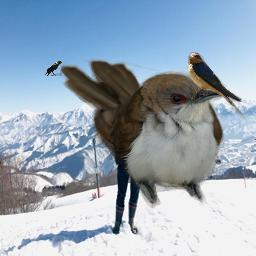Crow: (43, 60, 62, 76)
Cuckoo: (60, 59, 230, 210)
Swallow: (187, 52, 250, 123)
